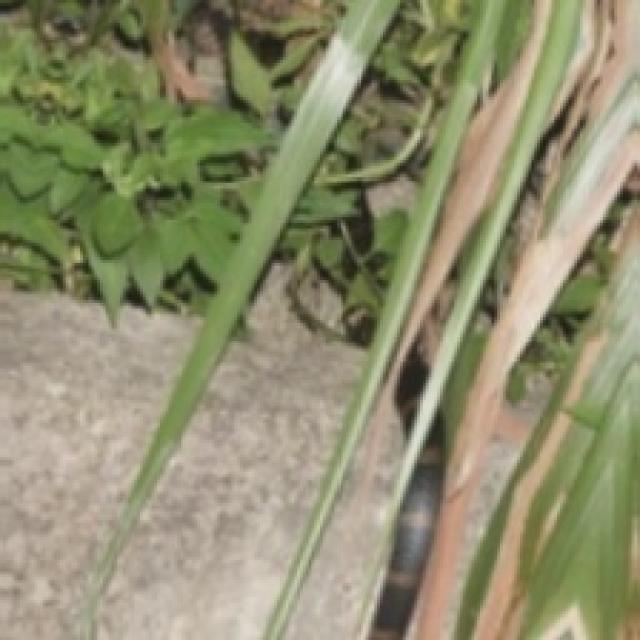king cobra: (0, 0, 637, 637), (123, 254, 371, 583)
